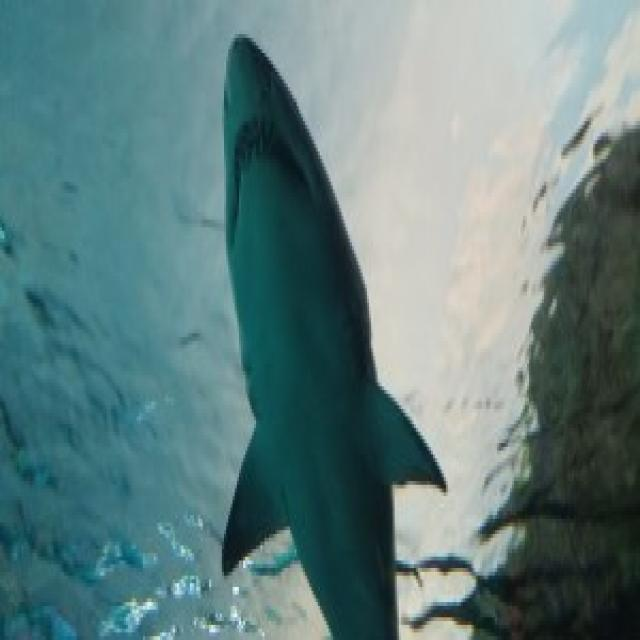Shark: (172, 16, 450, 640)
